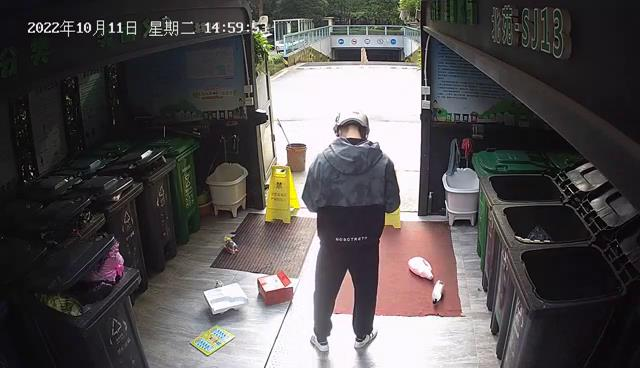paomozhipin: (202, 281, 250, 317)
person: (300, 109, 401, 353)
suliaozhipin: (406, 256, 434, 281), (221, 231, 239, 255), (430, 278, 446, 302)
zhizhipin: (189, 323, 236, 357), (256, 269, 295, 306)
